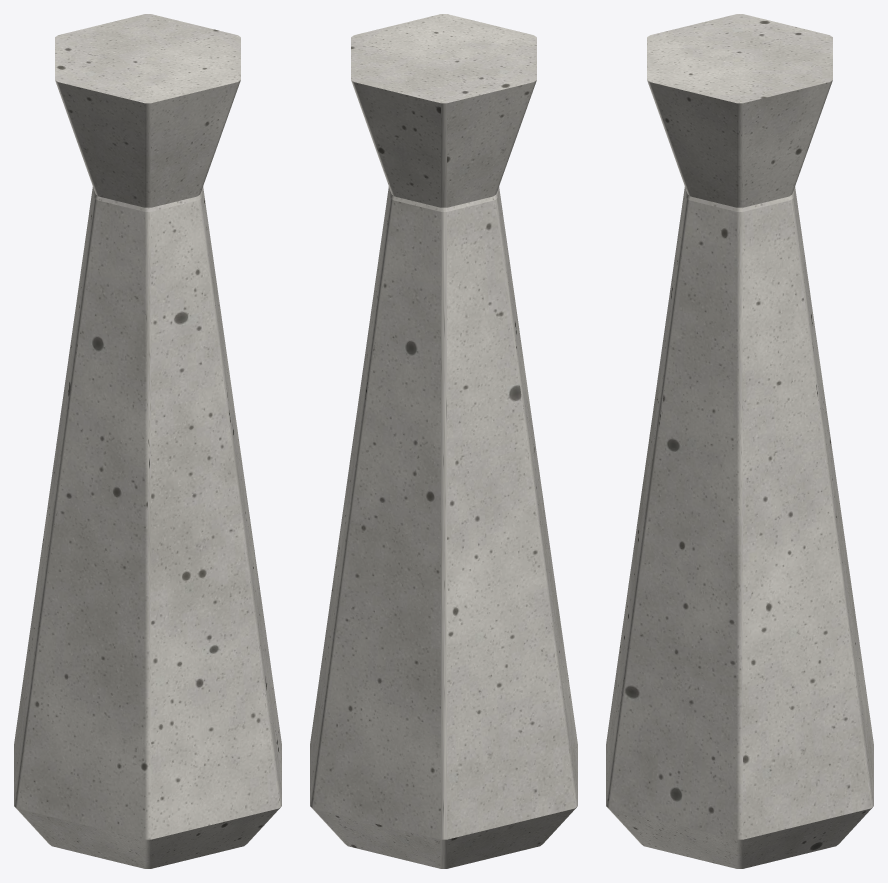
File: queen-white.glb
The picture shows the model from 3 angles, left to right: view 1: azimuth 30°, elevation 25°; view 2: azimuth 150°, elevation 25°; view 3: azimuth 270°, elevation 25°; orthographic projection.
Visible parts, largest first — view 1: HEXALITH_white_queen; view 2: HEXALITH_white_queen; view 3: HEXALITH_white_queen.
Boxes of the visible parts, x1,y1,x2,y2 form: HEXALITH_white_queen: (14, 14, 281, 868); HEXALITH_white_queen: (310, 14, 577, 868); HEXALITH_white_queen: (606, 14, 873, 868).
Bounding box in the file's own units: 0.5341 × 1.47 × 0.4677.
1 material, 1 textured.
